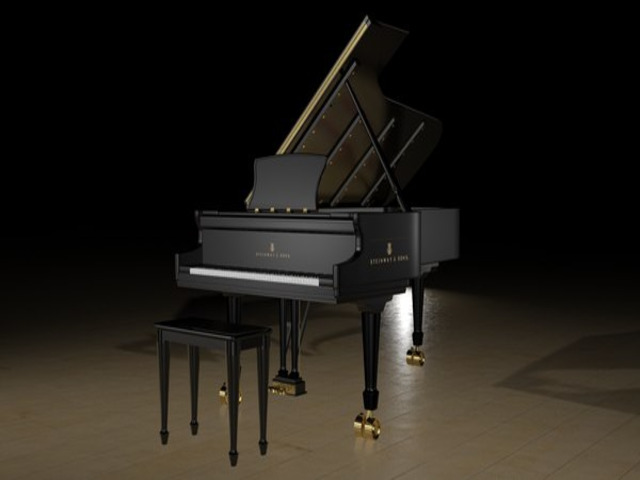Piano: (168, 15, 468, 446)
